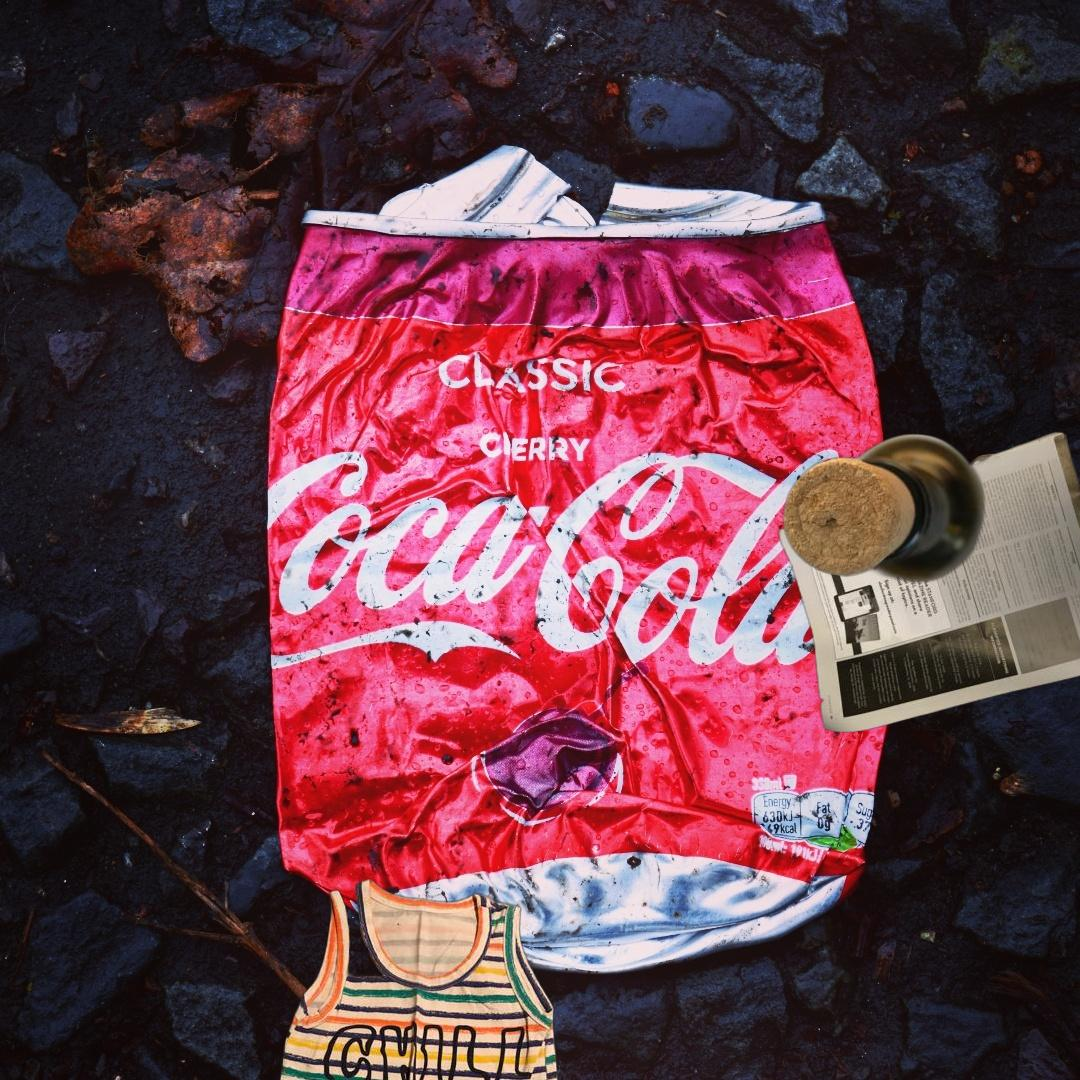clothes: (273, 874, 573, 1080)
glass: (778, 432, 988, 586)
paper: (773, 428, 1080, 736)
